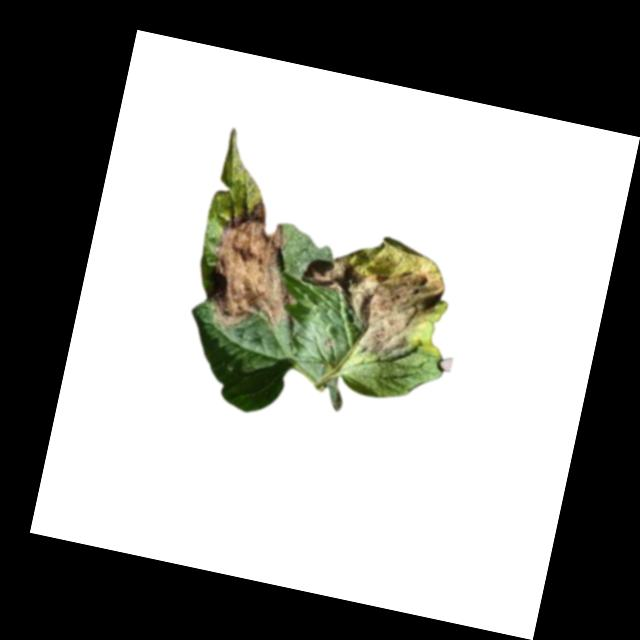Late_blight: (291, 220, 459, 367), (201, 194, 315, 342)
